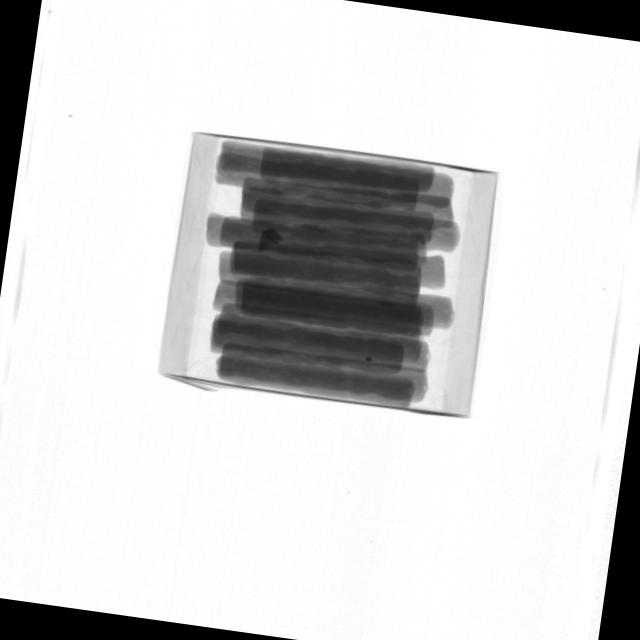ym: (258, 227, 286, 256), (367, 356, 373, 362)
